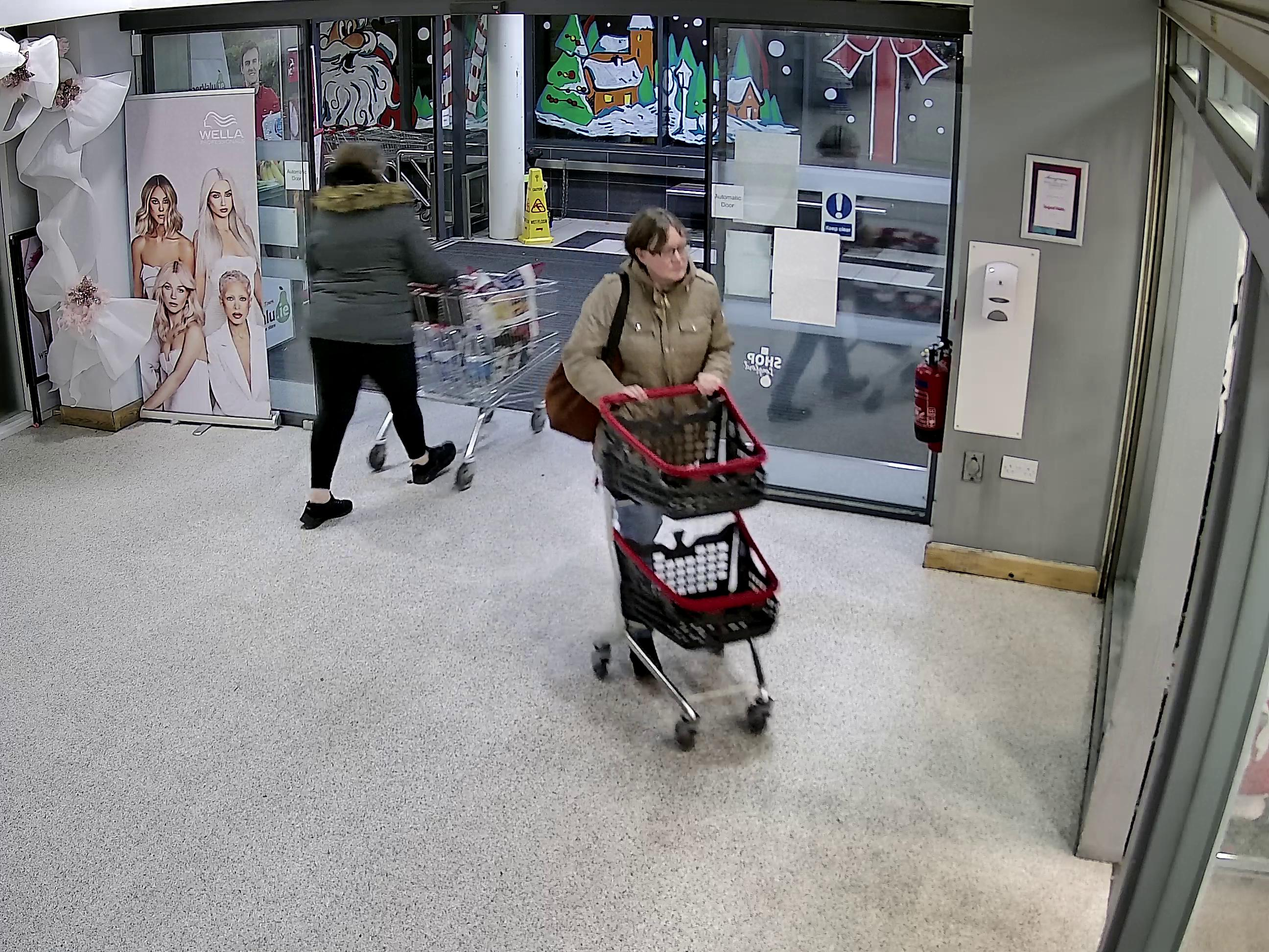backpack-or-handbag: (543, 349, 621, 441)
empty-basket: (589, 378, 780, 752)
filled-trolly: (368, 267, 561, 489)
person: (564, 204, 733, 677), (299, 137, 457, 529)
person-with-basket-trolly-and-backpack-handbag: (542, 202, 781, 752)
person-with-filled-basket-trolly: (299, 134, 561, 527)
